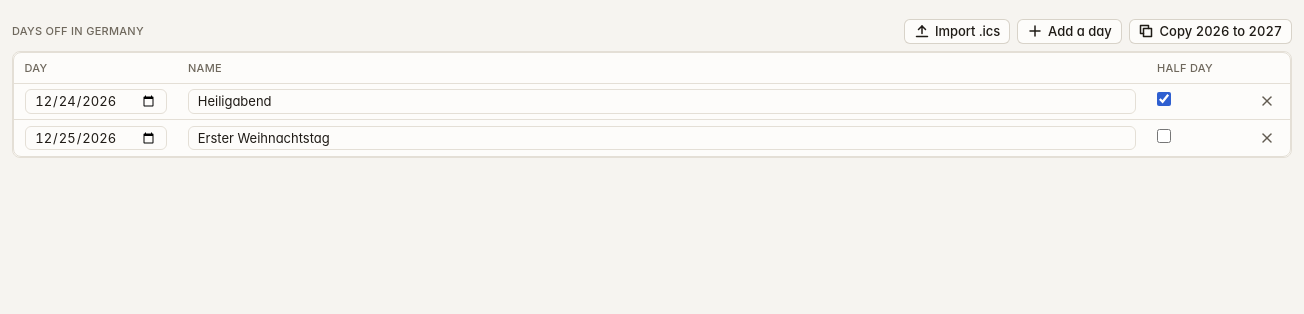
Test case: a calendar's days off › copied into next year › keeps a typed day and never takes its date
Click the button "Add a day" at (1069, 31), box [1017, 19, 1122, 44]
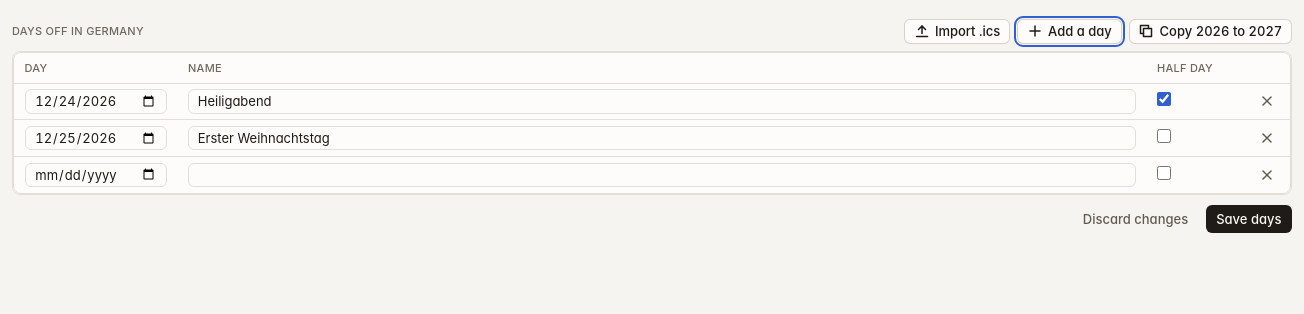
Type "2027-12-24" into the 3rd date field named "Day" at (96, 175), box [24, 163, 167, 187]
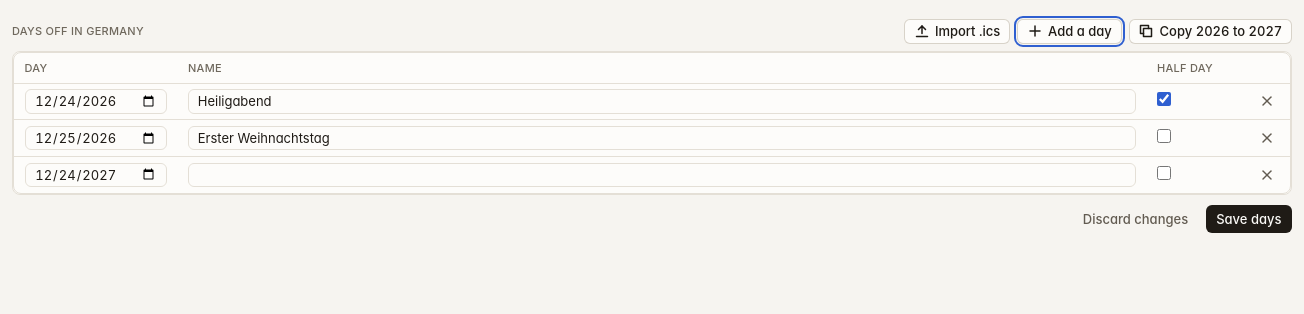
Type "Betriebsruhe" into the 3rd field named "Name" at (662, 175), box [188, 163, 1136, 187]
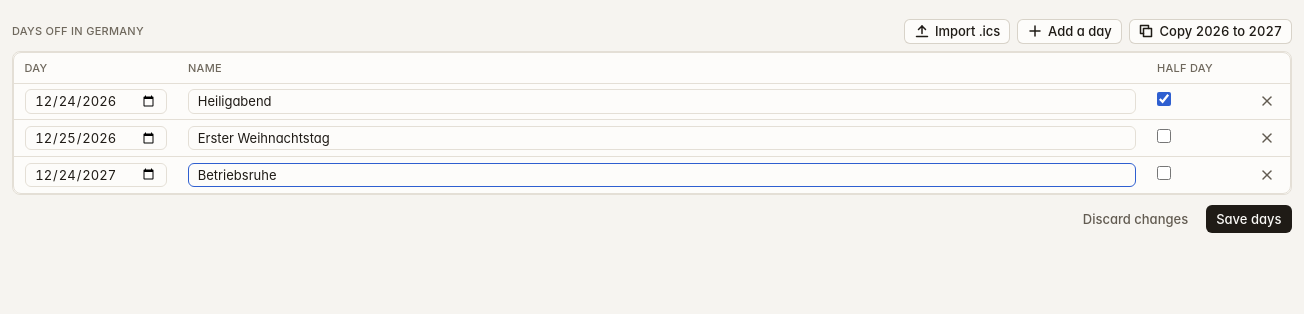
Click the button "Copy 2026 to 2027" at (1210, 31), box [1129, 19, 1292, 44]
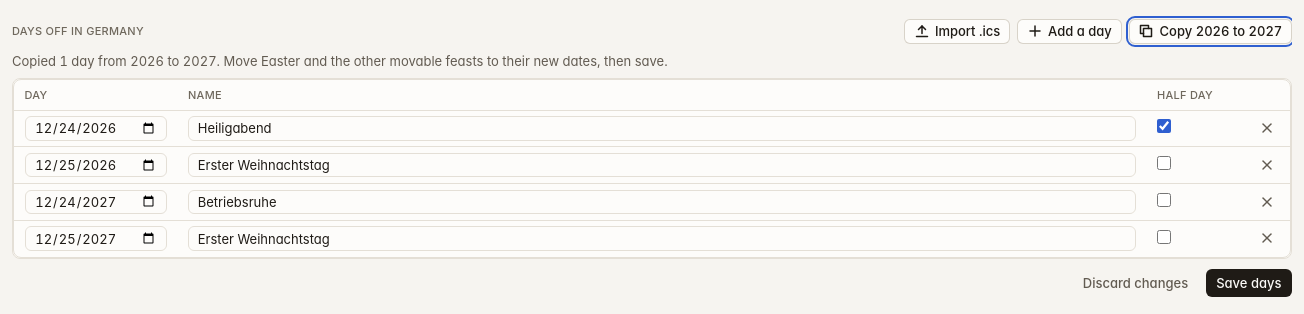
expect the text "Copied 1 day from 2026 to 2027" is shown: met, box [12, 52, 668, 68]
